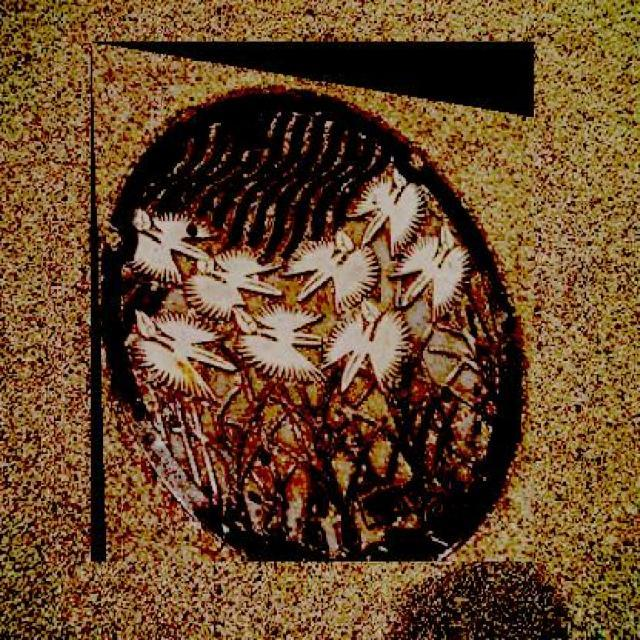Manhole: (91, 41, 534, 562)
